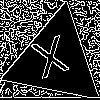X: (30, 34, 75, 89)
